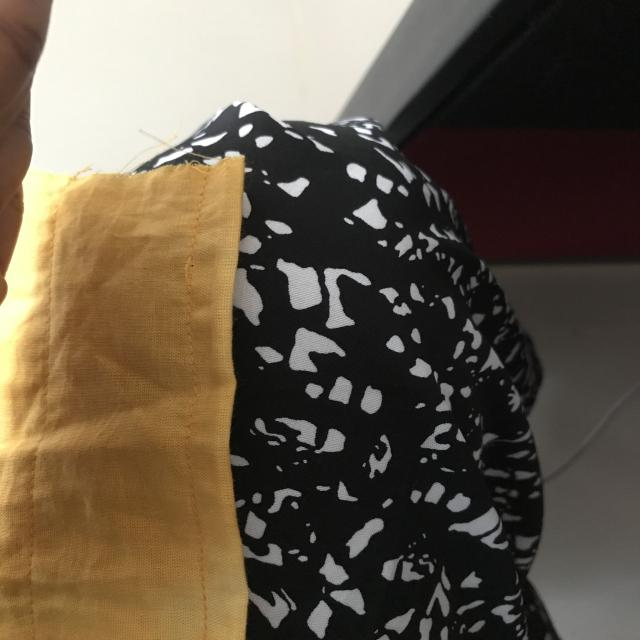skip: (169, 253, 207, 298)
